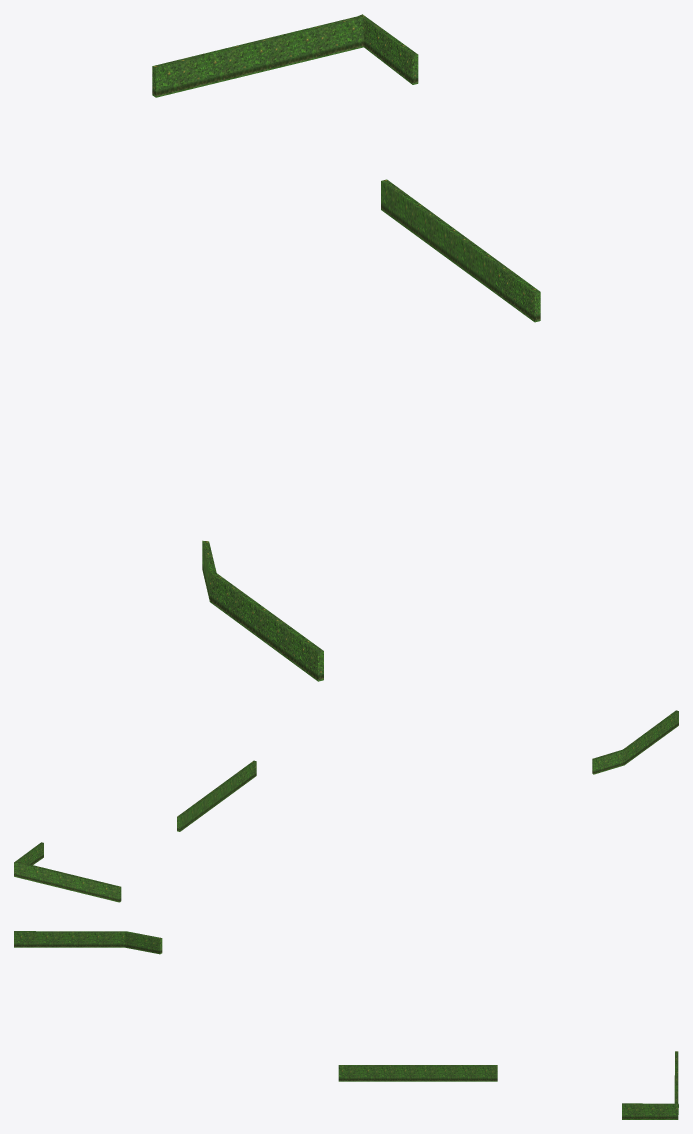
The model's file is BUSHES.glb.
3 renders of one model, top to bottom at view 1: azimuth 30°, elevation 25°; view 2: azimuth 150°, elevation 25°; view 3: azimuth 270°, elevation 25°, orthographic. The views are drawn at different scales.
Parts seen in each view (by area): view 1: BUSHES; view 2: BUSHES; view 3: BUSHES.
Part boxes in pixels (x1,y1,x2,y2): BUSHES: [152, 14, 540, 681]; BUSHES: [14, 710, 678, 902]; BUSHES: [14, 931, 678, 1119].
Size of the model in its own units: 7557 by 306 by 12232.
Materials: 2 (2 with a texture image).
